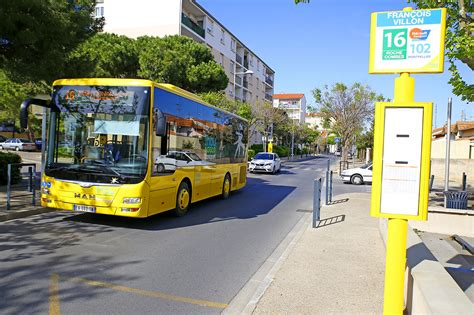bus: (40, 75, 248, 215)
car: (343, 161, 373, 185), (249, 152, 281, 174)
